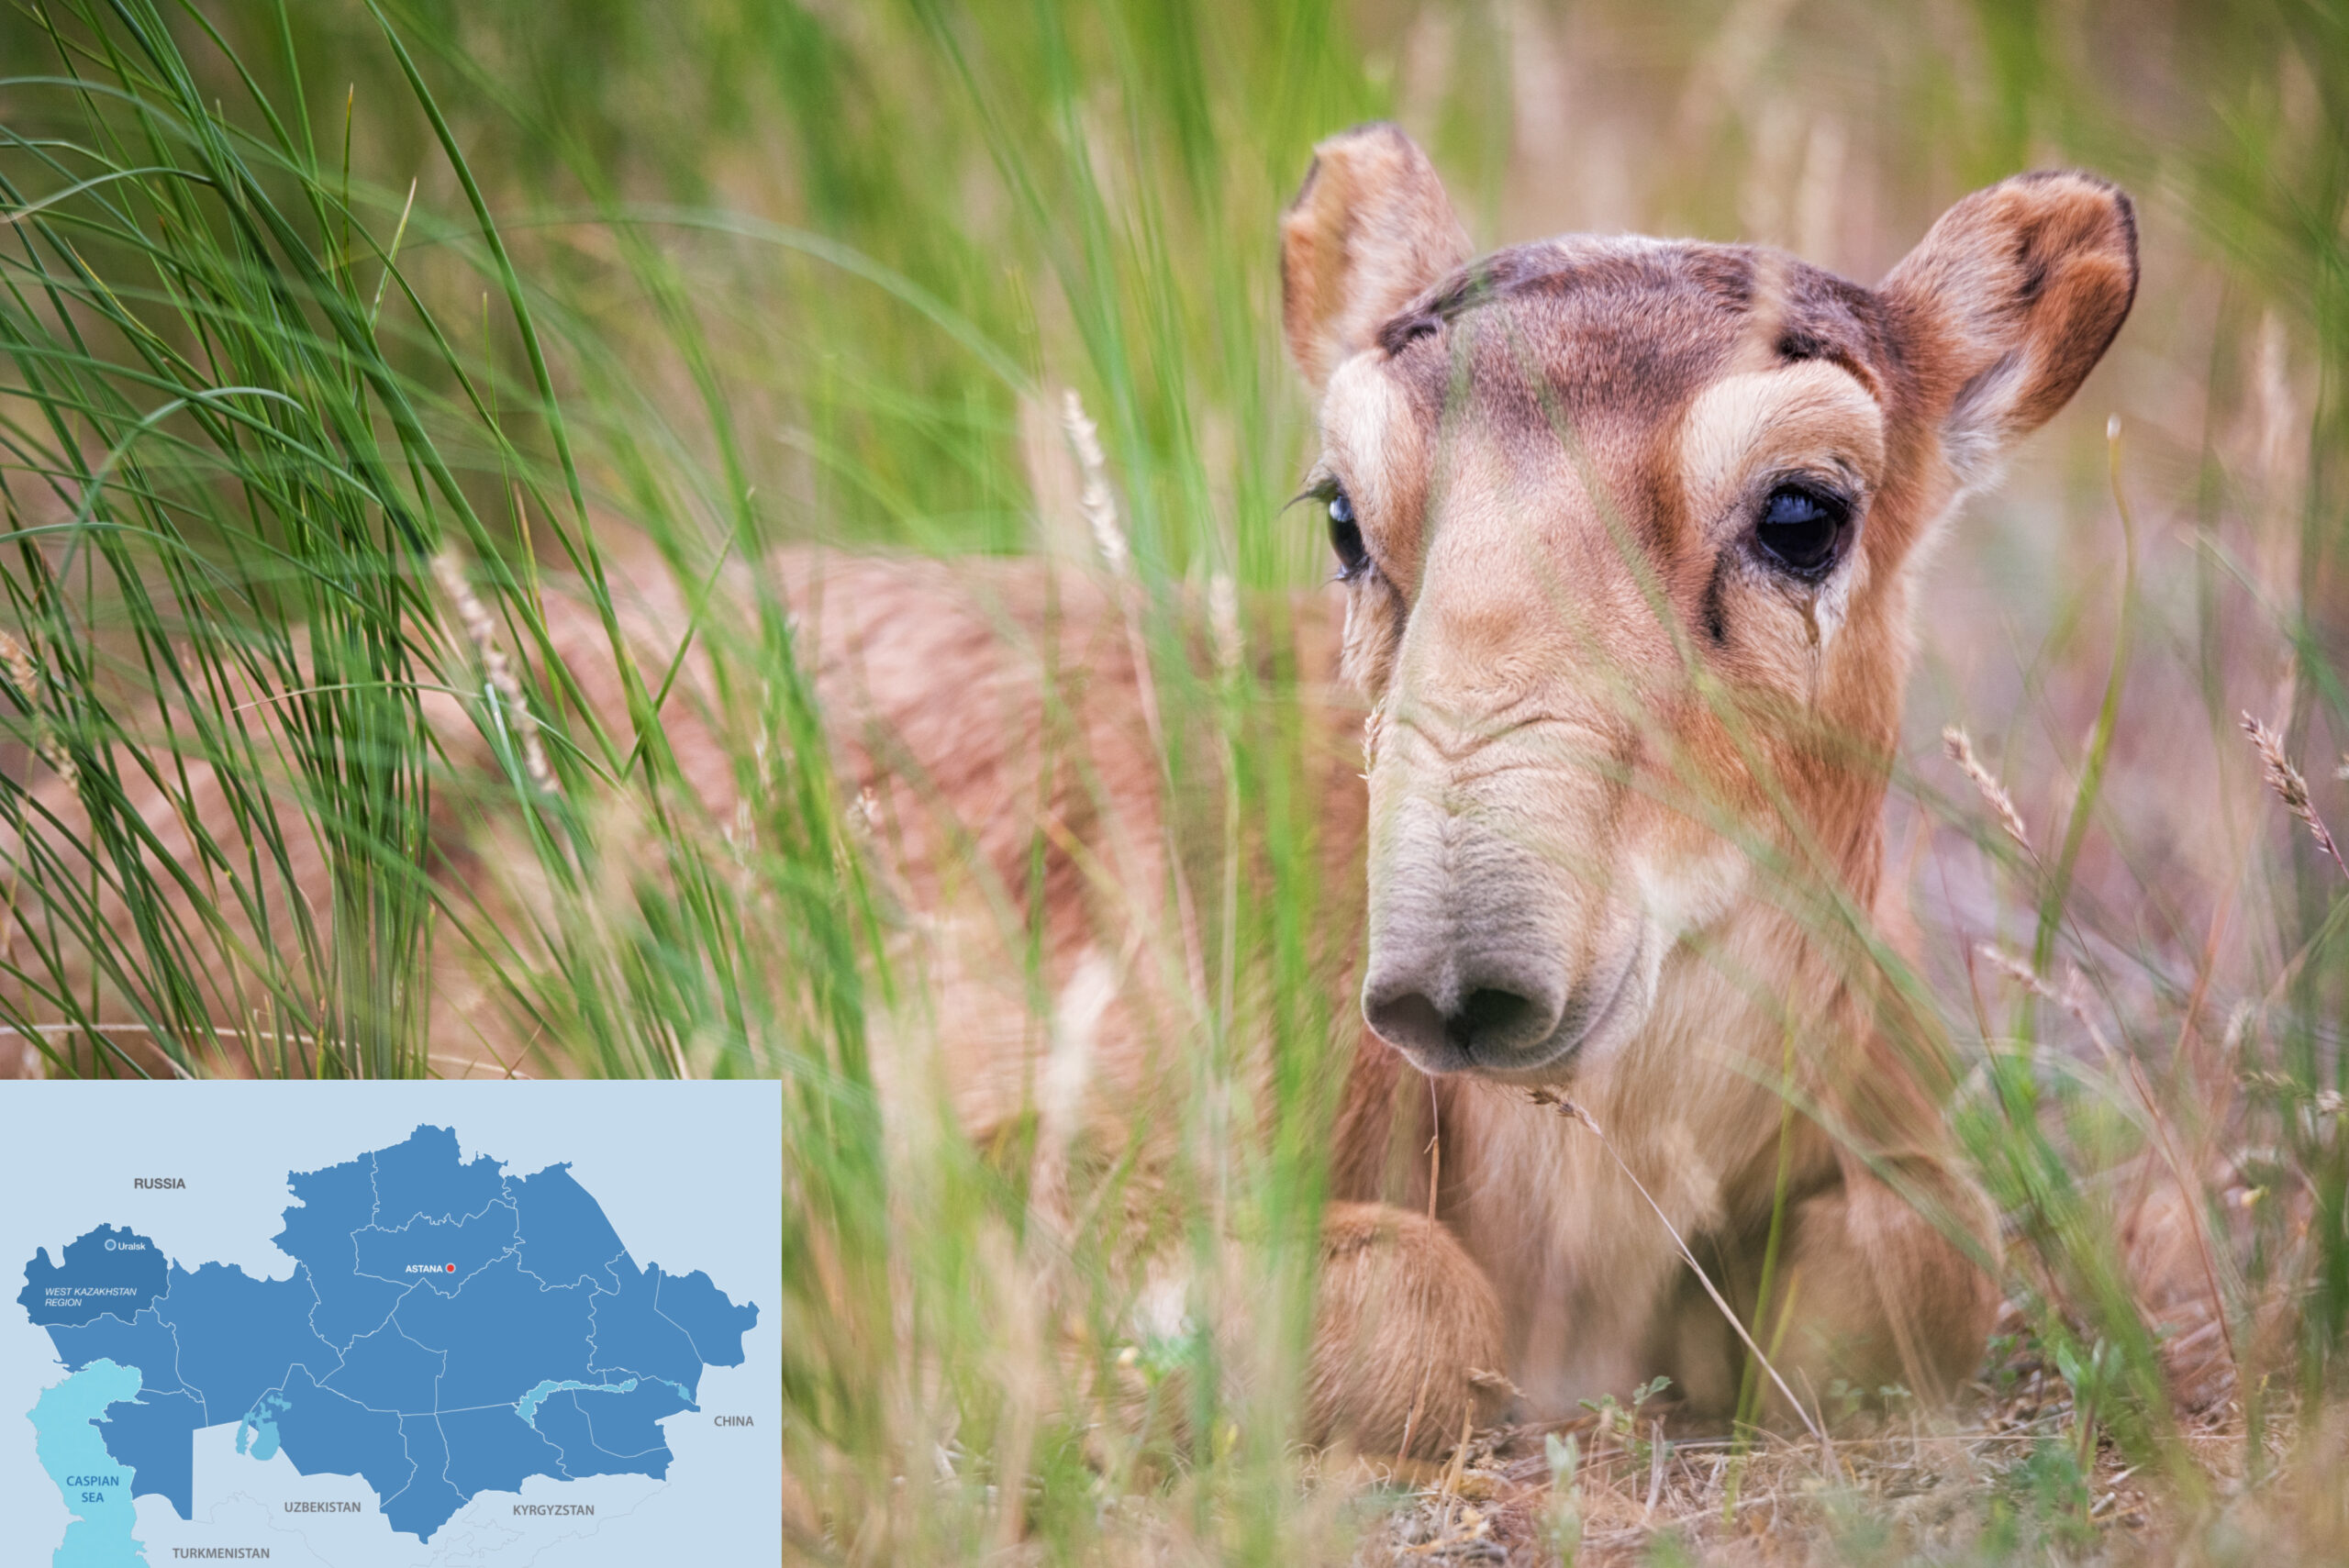saiga: (5, 122, 2146, 1515)
